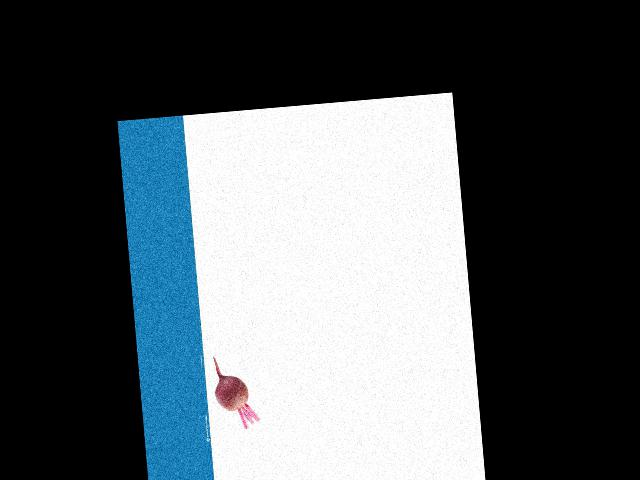beet: (212, 353, 260, 430)
